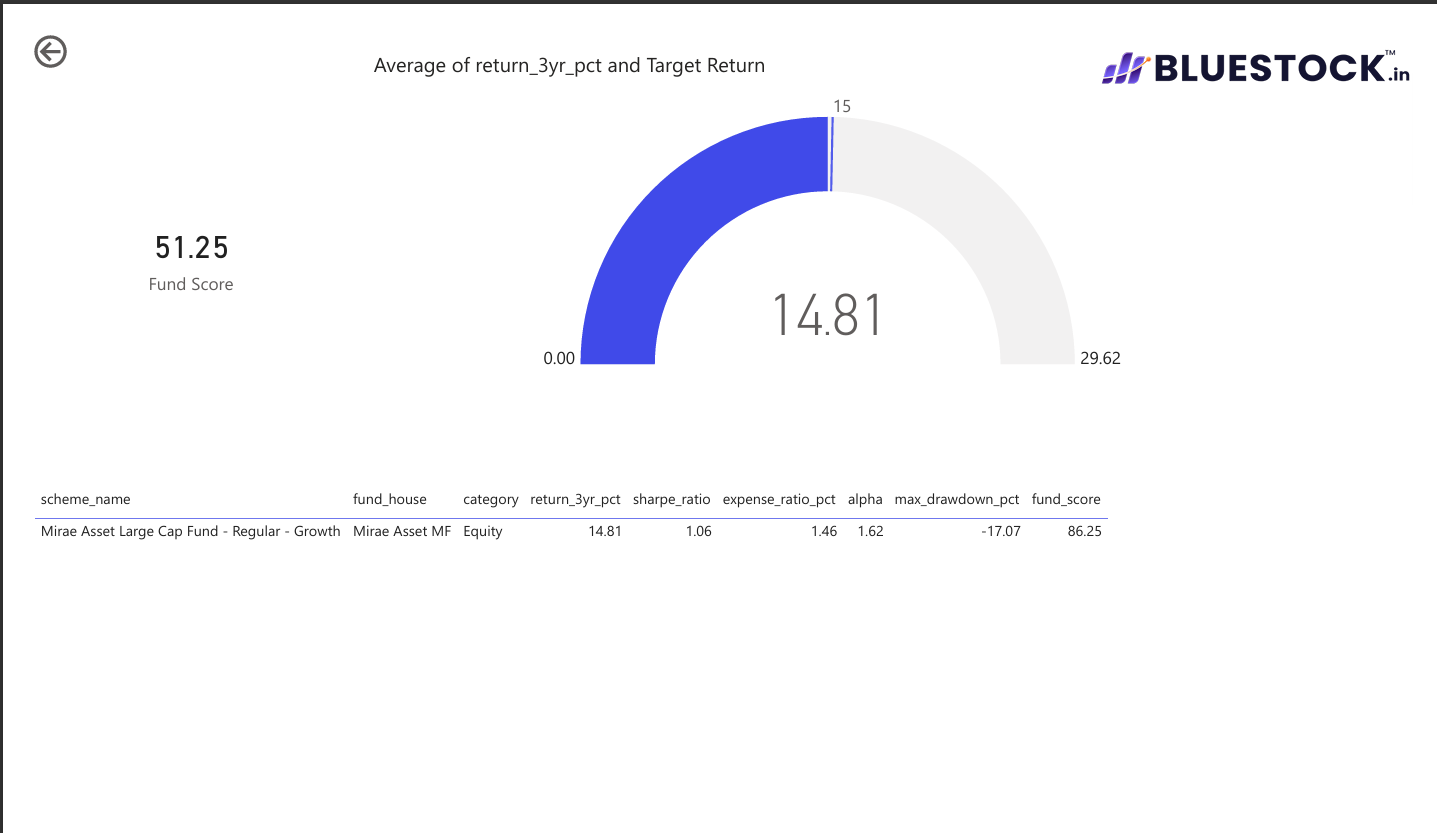

The page's visual inventory and layout, read from the dashboard file:
{"tool":"powerbi","page":{"name":"Scheme Details","canvas":[1280,720],"ordinal":4},"visuals":[{"type":"actionButton","box":[0,0,100,40],"z":0},{"type":"card","fields":{"Values":["Avg(fund_scorecard.fund_score)"]},"box":[0,59.7,300,300],"z":1000},{"type":"tableEx","fields":{"Values":["fund_master_clean.scheme_name","fund_master_clean.fund_house","fund_master_clean.category","scheme_performance_clean.return_3yr_pct","scheme_performance_clean.sharpe_ratio","scheme_performance_clean.expense_ratio_pct","scheme_performance_clean.alpha","scheme_performance_clean.max_drawdown_pct","fund_scorecard.fund_score"]},"box":[0,419.5,1158.4,300],"z":2000},{"type":"gauge","fields":{"Y":["Avg(scheme_performance_clean.return_3yr_pct)"],"TargetValue":["category_inflows_clean.Target Return"]},"box":[314.3,19.5,858.4,300],"z":3000},{"type":"image","box":[992,0,288,68],"z":4000}]}

Visuals, with their boxes in screenshot pixels (x1, y1, x2, y2), scaled from the page's 1280x720 canvas onto the 1437x833 screenshot:
actionButton: 0 0 112 46
card - Avg(fund_scorecard.fund_score): 0 69 337 416
tableEx - fund_master_clean.scheme_name x fund_master_clean.fund_house: 0 485 1300 832
gauge - Avg(scheme_performance_clean.return_3yr_pct) x category_inflows_clean.Target Return: 353 23 1317 370
image: 1114 0 1436 79
